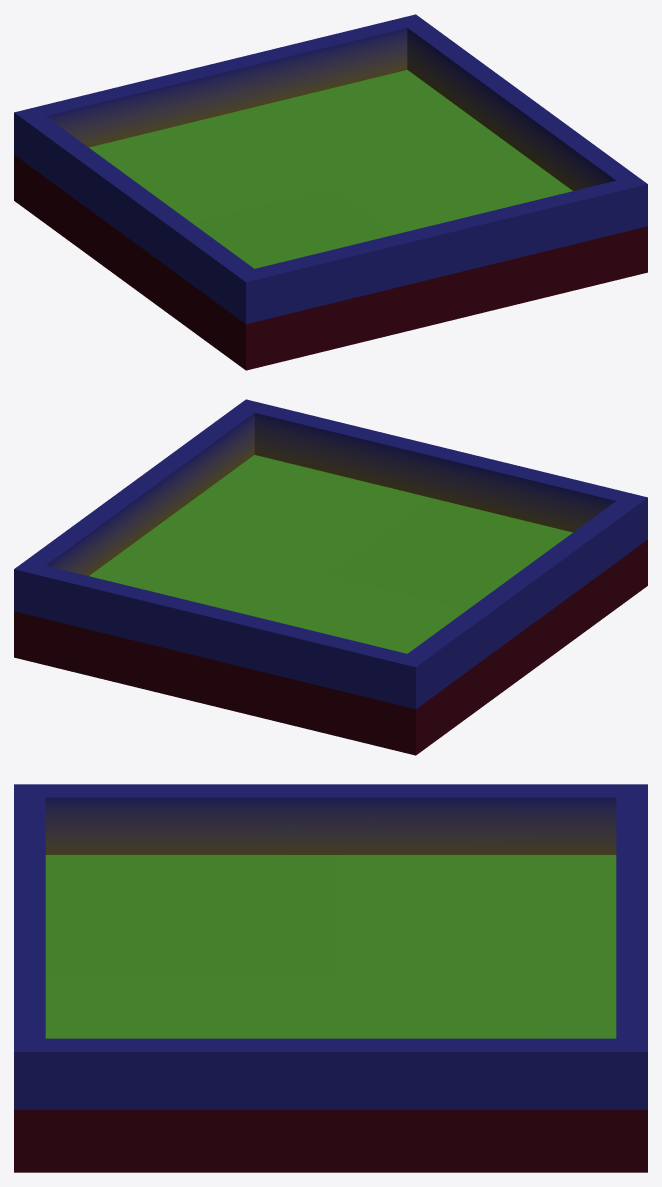
The model's file is Platform_1.fbx.
3 renders of one model, top to bottom at view 1: azimuth 30°, elevation 25°; view 2: azimuth 150°, elevation 25°; view 3: azimuth 270°, elevation 25°, orthographic. The views are drawn at different scales.
Parts seen in each view (by area): view 1: Cube; view 2: Cube; view 3: Cube.
Boxes of the visible parts, box(x1,y1,x2,y2) form: Cube: box(14, 14, 647, 370); Cube: box(14, 399, 647, 755); Cube: box(14, 784, 647, 1172).
Size of the model in its own units: 3000 by 630 by 3000.
